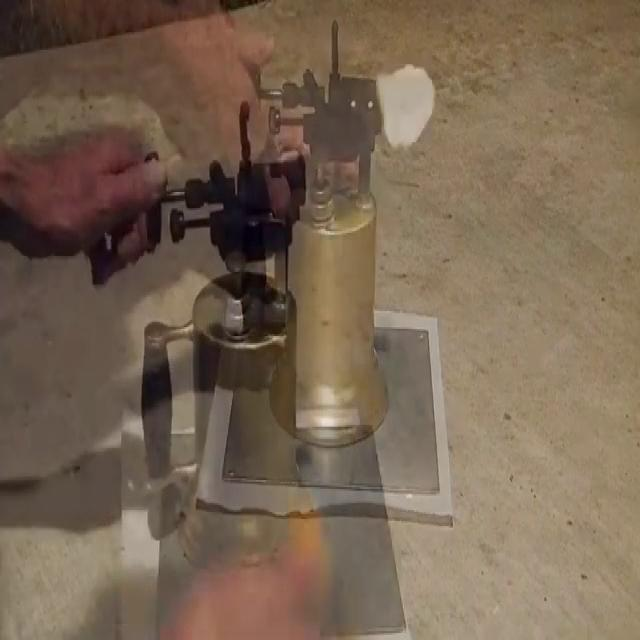fire: (366, 59, 462, 163)
